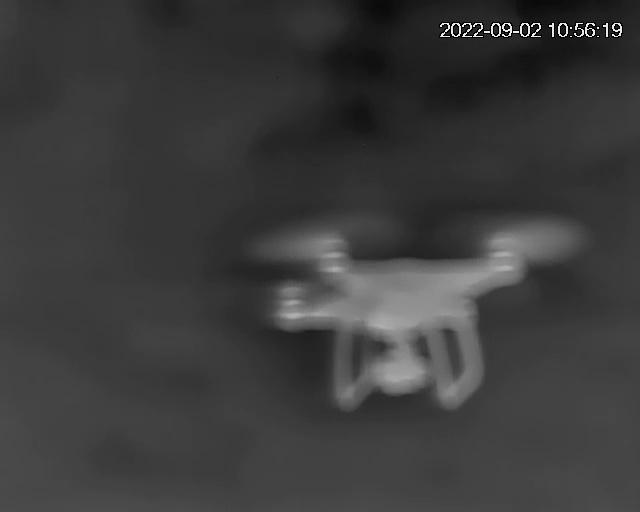DJI-Phantom: (258, 219, 572, 410)
